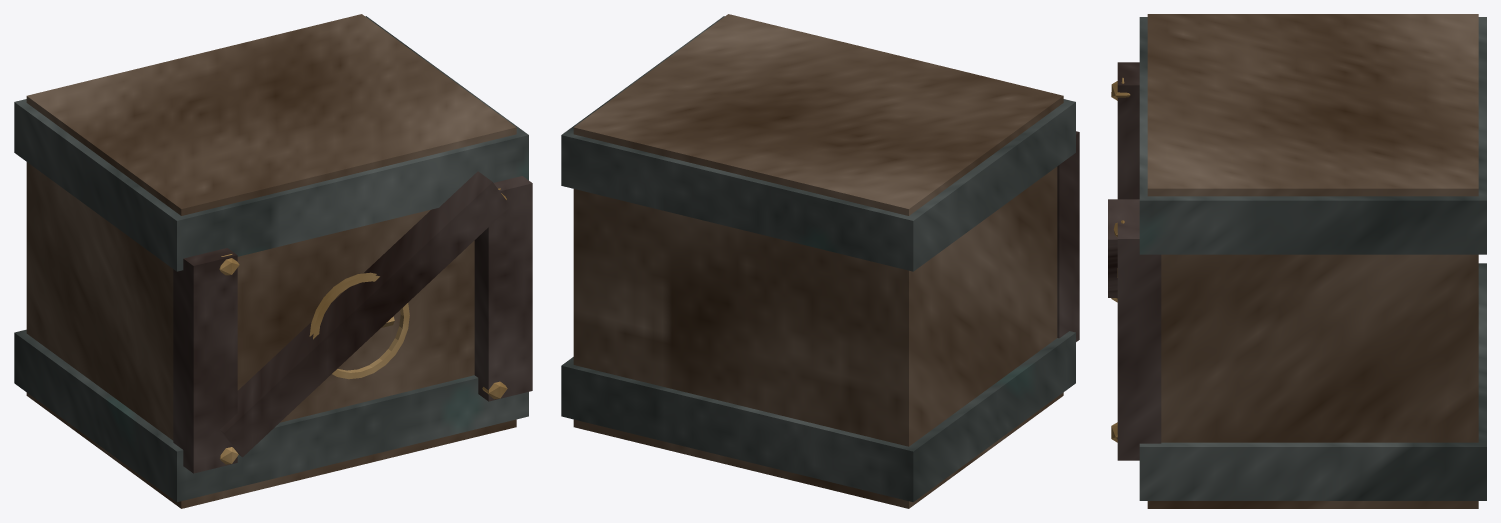
The model's file is 0733_supply_crate_08.glb.
3 renders of one model, left to right at view 1: azimuth 30°, elevation 25°; view 2: azimuth 150°, elevation 25°; view 3: azimuth 270°, elevation 25°, orthographic. The views are drawn at different scales.
Visible parts, largest first — view 1: wood, iron, wood_dark, brass; view 2: wood, iron, wood_dark; view 3: wood, iron, wood_dark.
Part boxes in pixels (x1=…): wood: x1=26, y1=14, x2=516, y2=508; iron: x1=14, y1=16, x2=528, y2=502; wood_dark: x1=173, y1=171, x2=532, y2=473; brass: x1=219, y1=188, x2=507, y2=464; wood: x1=573, y1=14, x2=1063, y2=508; iron: x1=561, y1=16, x2=1075, y2=502; wood_dark: x1=1057, y1=131, x2=1079, y2=341; wood: x1=1147, y1=14, x2=1478, y2=508; iron: x1=1139, y1=17, x2=1486, y2=500; wood_dark: x1=1108, y1=62, x2=1161, y2=460.
Bounding box in the file's own units: 0.7992 × 0.6502 × 0.6972.
4 materials, 4 textured.
